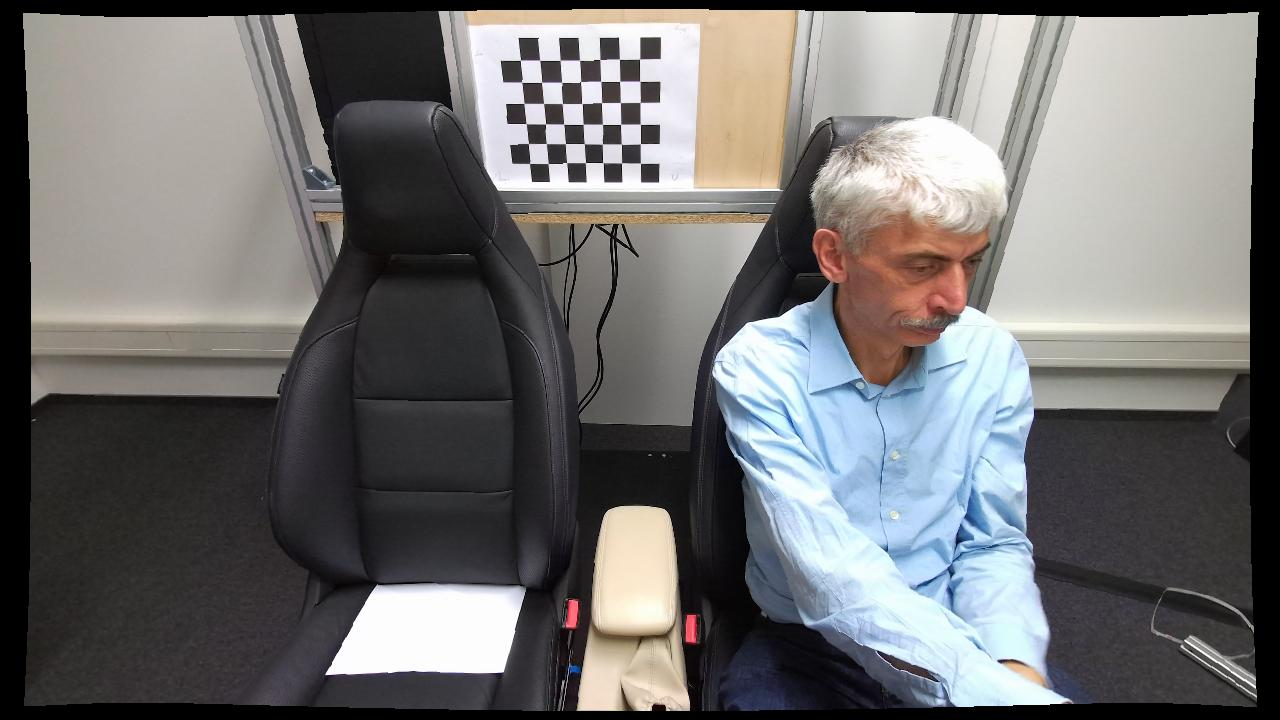Distracted: (705, 106, 1045, 715)
